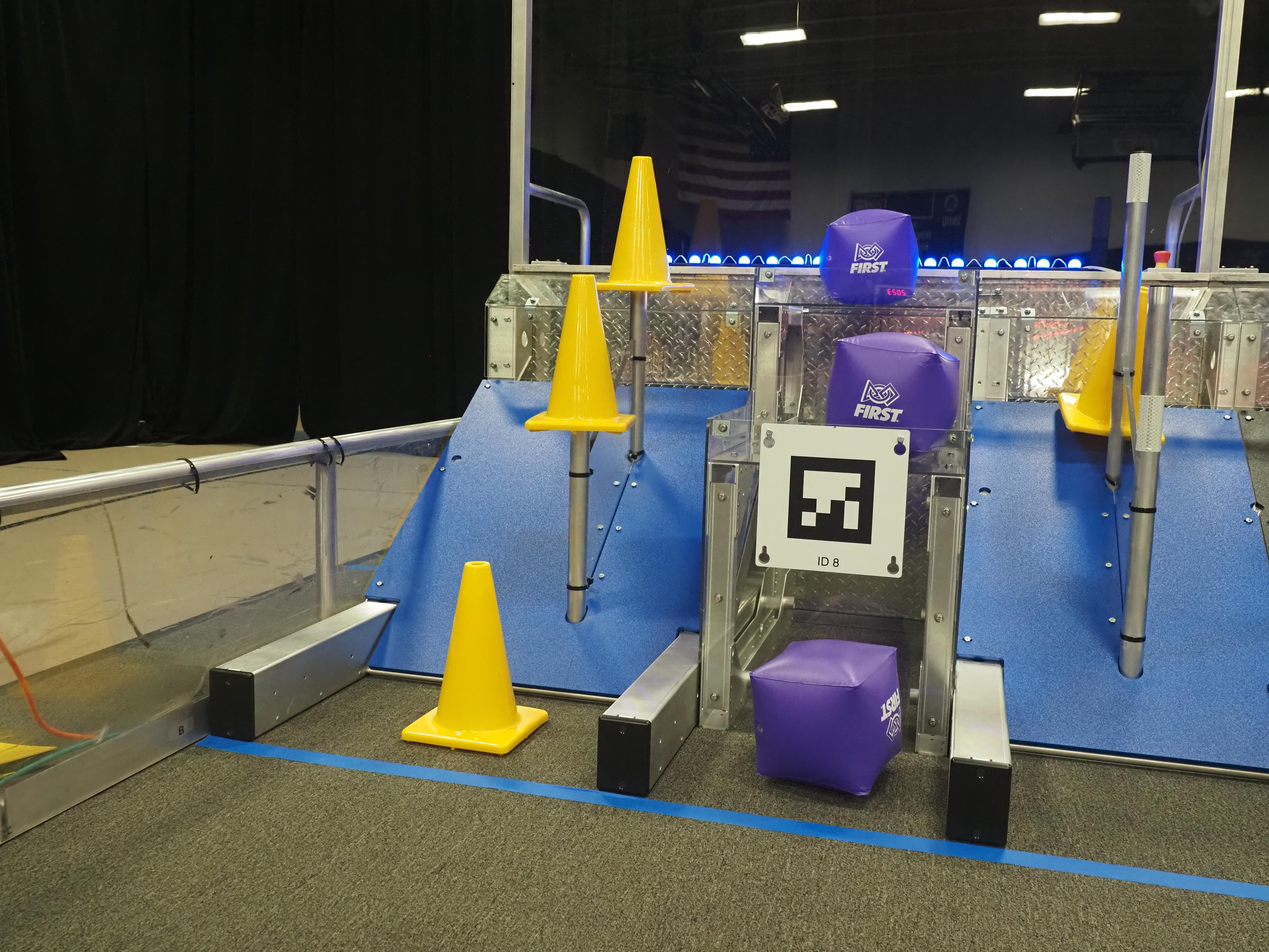cone: (393, 552, 552, 764), (523, 269, 641, 441), (1054, 282, 1171, 449), (597, 153, 701, 300)
cube: (745, 634, 916, 809), (825, 332, 964, 458), (813, 207, 935, 309)
